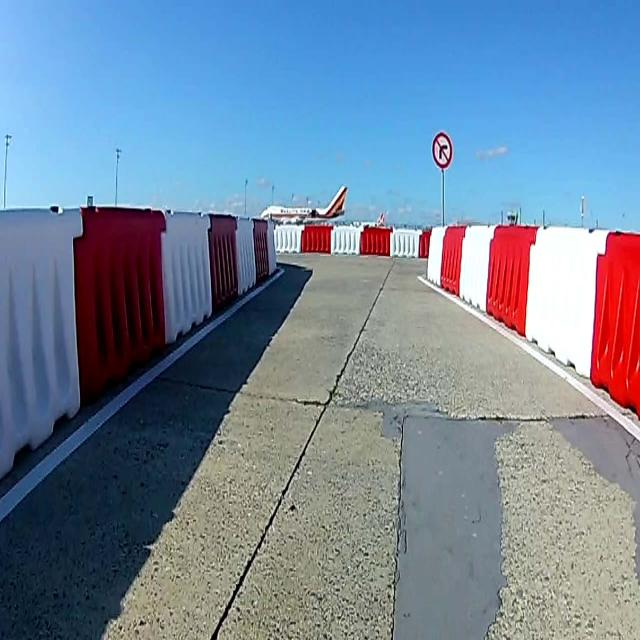sagadonulmez: (432, 133, 452, 167)
